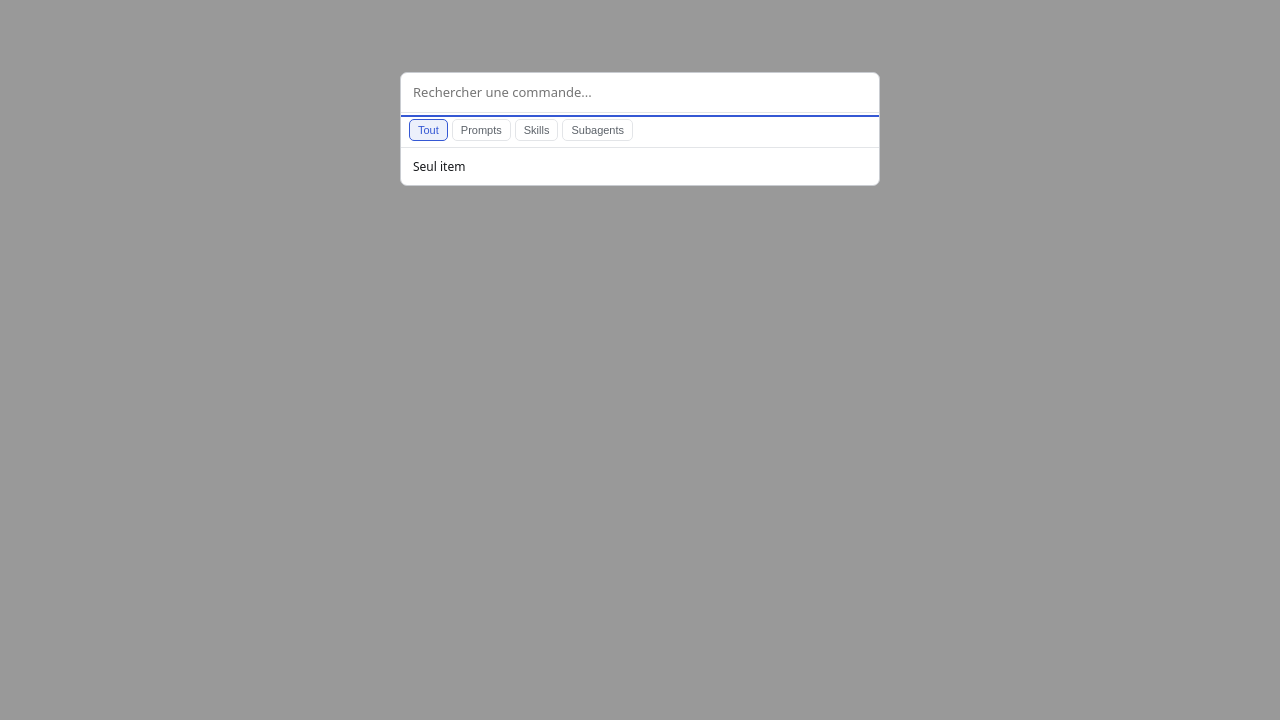
aucun resultat apres filtrage affiche un message dedie
Type "zzz-introuvable" into the field labelled "Rechercher une commande...".
click(640, 93); type("zzz-introuvable")  # box [401,73,879,113]
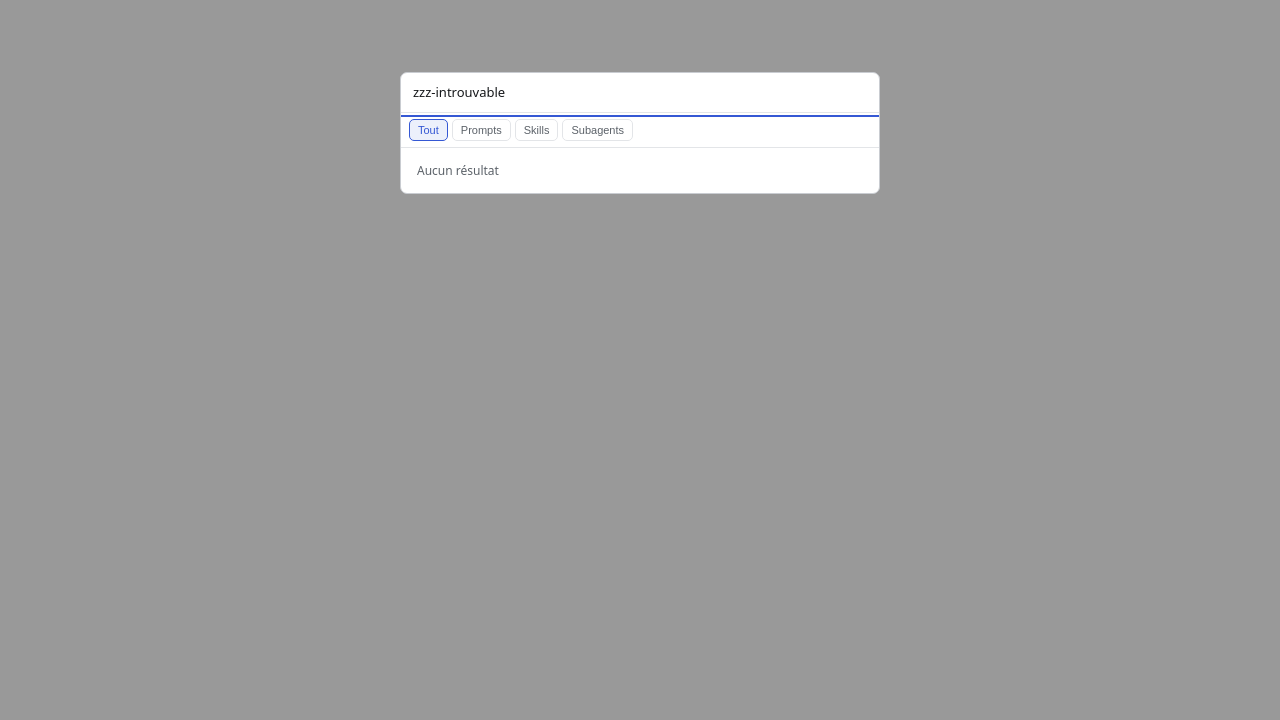
Expected: the list item "Aucun résultat" is shown, [417,162,499,179]
